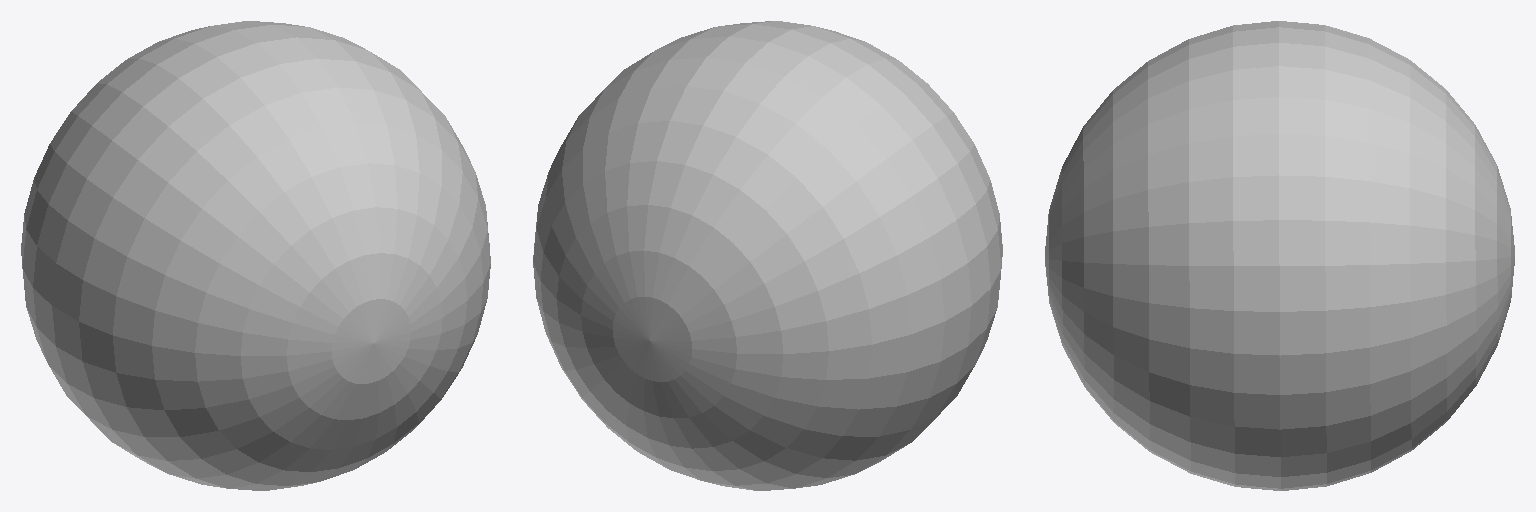
File: eyeball.obj
3 views of the same model, side by side, from view 1: azimuth 30°, elevation 25°; view 2: azimuth 150°, elevation 25°; view 3: azimuth 270°, elevation 25° (orthographic).
Parts seen in each view (by area): view 1: Sphere, outer_eye_Sphere.001; view 2: Sphere; view 3: Sphere, outer_eye_Sphere.001.
Part boxes in pixels (bbox=[...]): Sphere: bbox=[21, 21, 490, 490]; outer_eye_Sphere.001: bbox=[195, 163, 482, 471]; Sphere: bbox=[533, 21, 1002, 490]; Sphere: bbox=[1113, 21, 1514, 490]; outer_eye_Sphere.001: bbox=[1045, 91, 1113, 421].
Size of the model in its own units: 2 by 2 by 2.